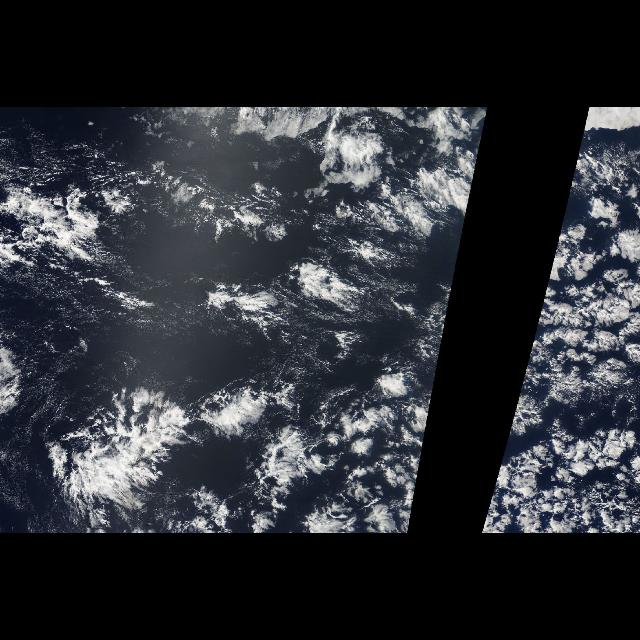Fish: (46, 392, 194, 512)
Flower: (40, 377, 436, 533), (508, 144, 640, 534)
Sugar: (16, 256, 202, 408)
